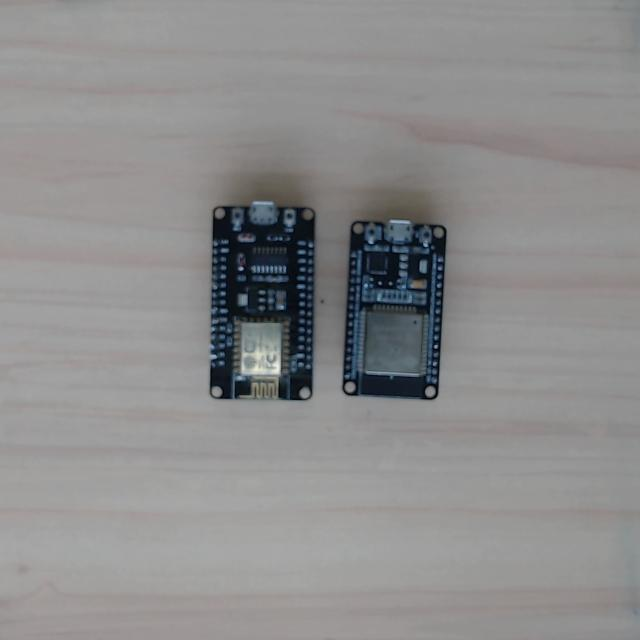ESP32-DevKit: (342, 217, 446, 400)
ESP8266-NodeMCU: (210, 201, 314, 399)
